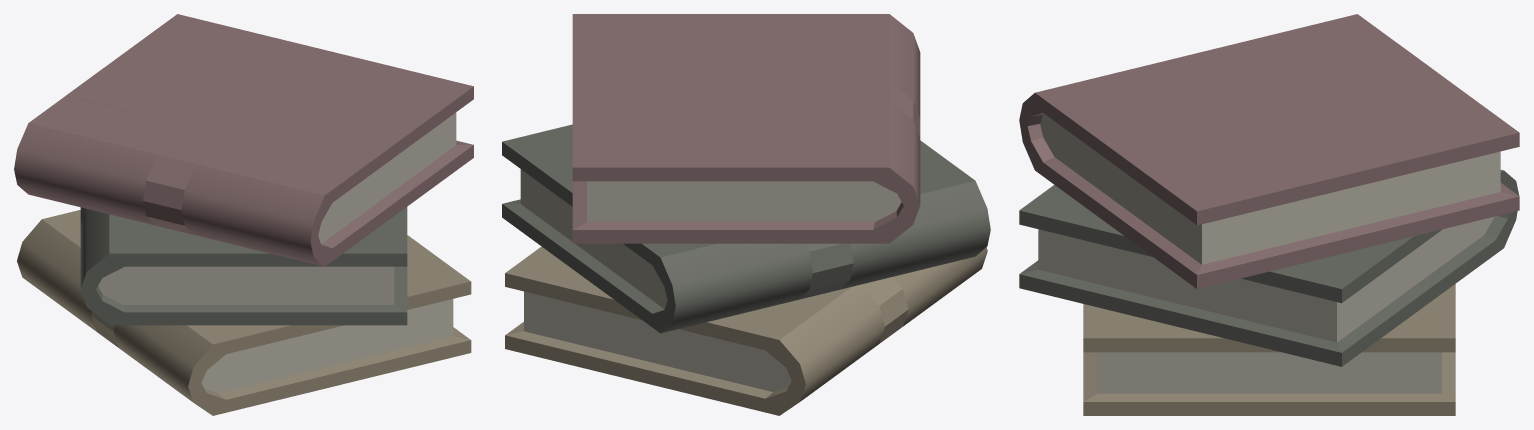
Rendered from books.fbx.
The picture shows the model from 3 angles, left to right: view 1: azimuth 30°, elevation 25°; view 2: azimuth 150°, elevation 25°; view 3: azimuth 270°, elevation 25°; orthographic projection. The views are drawn at different scales.
Visible parts, largest first — view 1: pCube25; view 2: pCube25; view 3: pCube25.
Boxes of the visible parts, bbox=[...] form: pCube25: bbox=[14, 14, 473, 415]; pCube25: bbox=[502, 14, 990, 415]; pCube25: bbox=[1019, 14, 1519, 415].
Bounding box in the file's own units: 1.52 × 0.7957 × 1.54.
